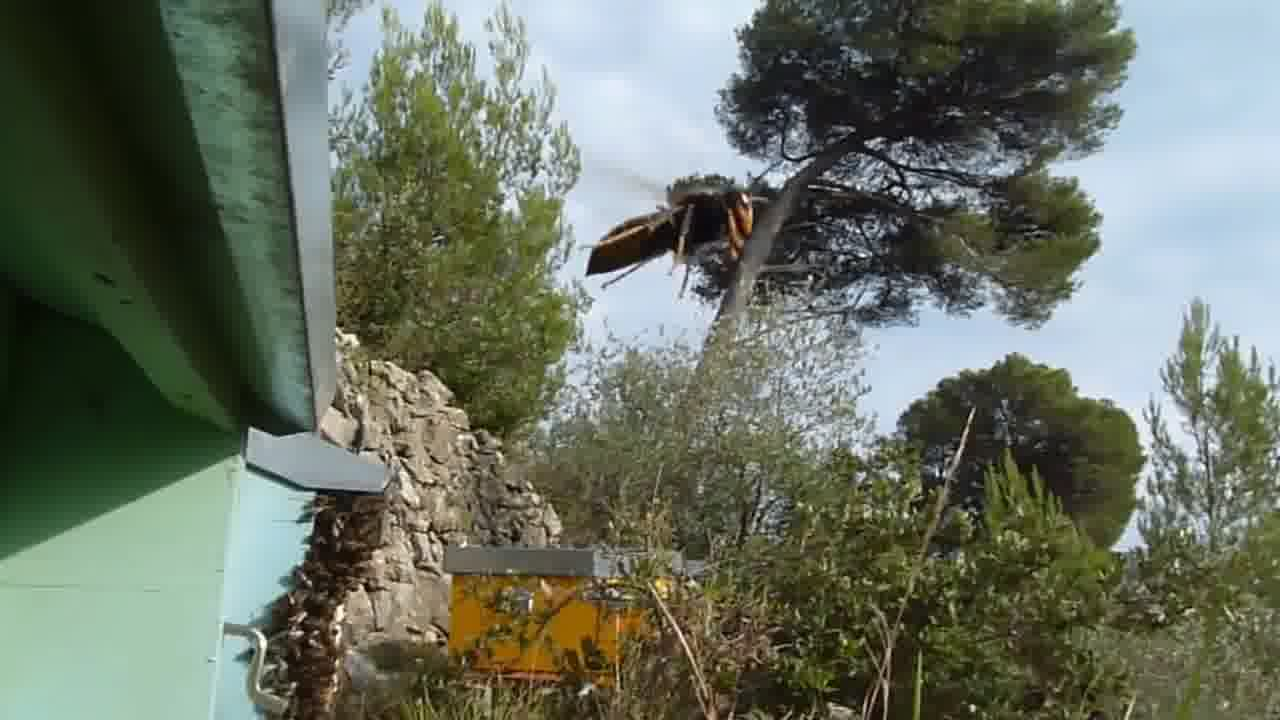bee: (301, 497, 390, 598), (266, 603, 345, 715)
hornet: (577, 175, 766, 283)
